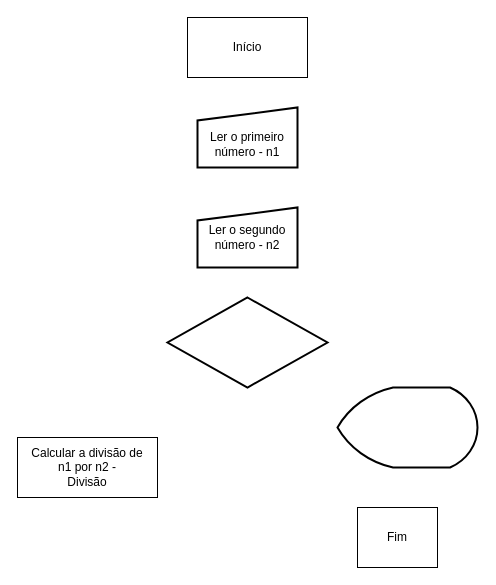
Image size: 496x585. Some labels were removed from this diagram. The shapes that lost their labels are listed below. From the top down, each one's centre as x and y in pixels, then its label:
At [247,342]: "n2=0".
At [407,427]: "Mostrar em vídeo não é permitido divisão por 0".
